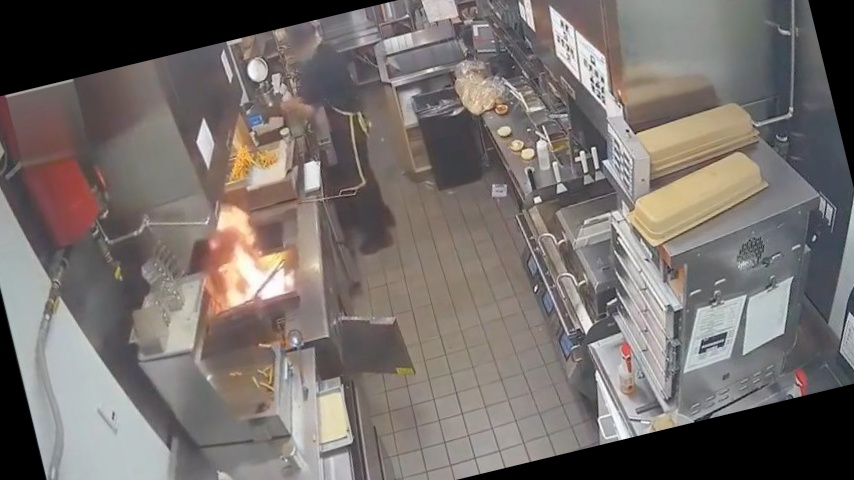fire: (179, 191, 309, 332)
